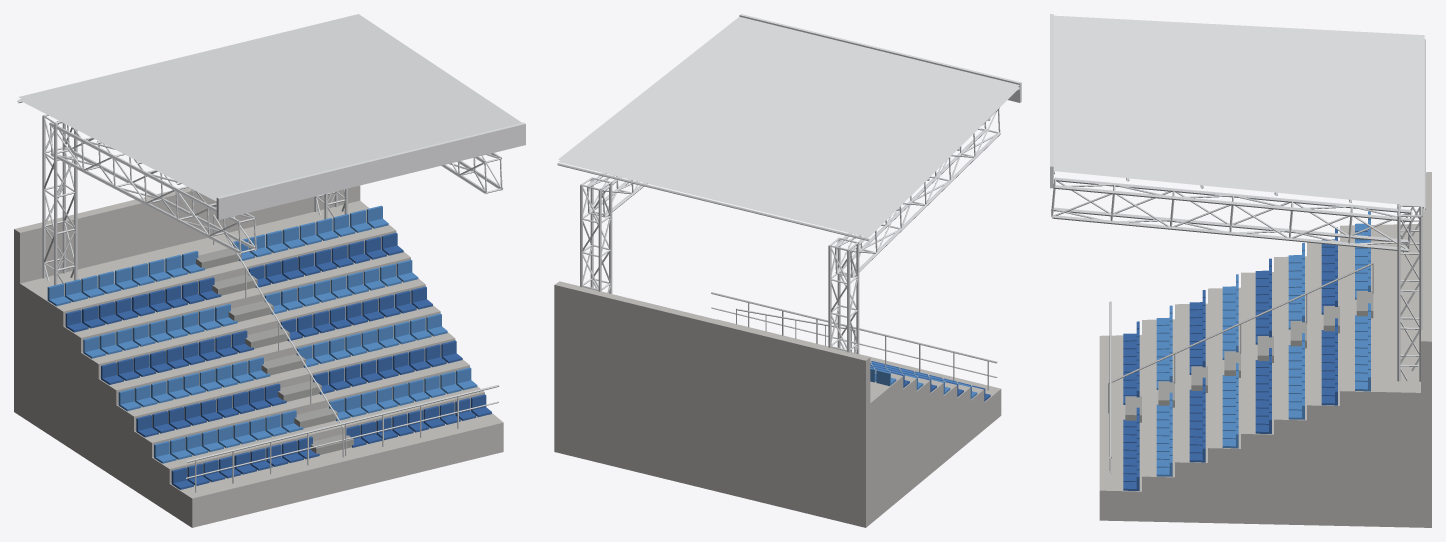
The model's file is bay_10m_curve6_roof.glb.
3 views of the same model, side by side, from view 1: azimuth 30°, elevation 25°; view 2: azimuth 150°, elevation 25°; view 3: azimuth 270°, elevation 25° (orthographic). The views are drawn at different scales.
Parts seen in each view (by area): view 1: bay_10m_curve6_roof; view 2: bay_10m_curve6_roof; view 3: bay_10m_curve6_roof.
Boxes of the visible parts, x1,y1,x2,y2 form: bay_10m_curve6_roof: (14,14,525,527); bay_10m_curve6_roof: (554,14,1021,527); bay_10m_curve6_roof: (1050,14,1431,527).
Bounding box in the file's own units: 10.92 × 10.62 × 10.4.
